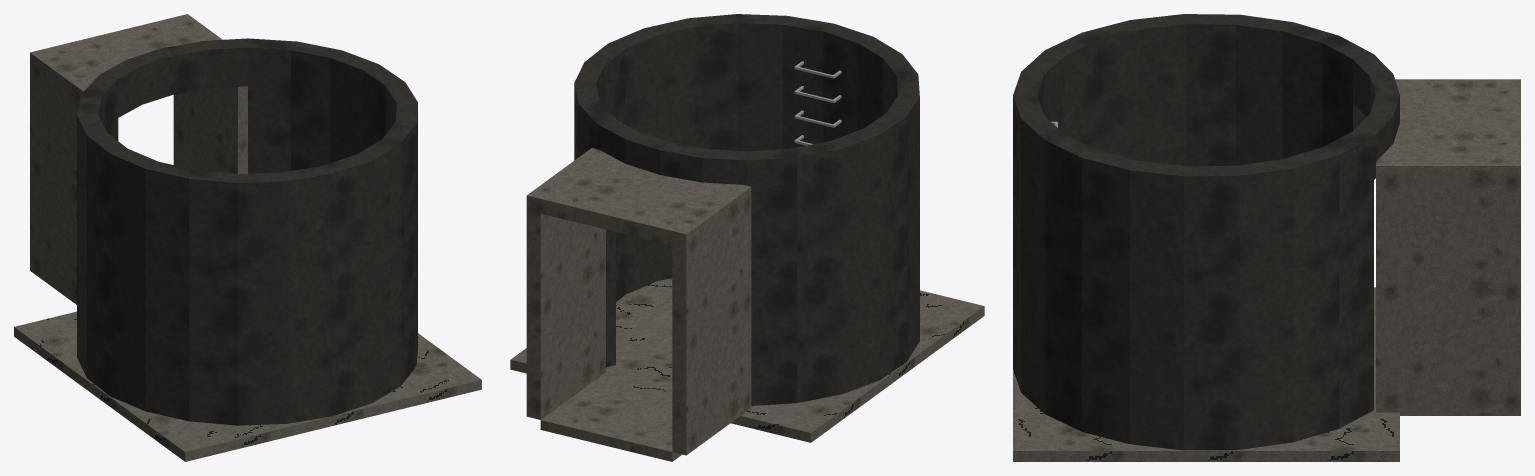
File: shaft_bottom_exit.glb
The picture shows the model from 3 angles, left to right: view 1: azimuth 30°, elevation 25°; view 2: azimuth 150°, elevation 25°; view 3: azimuth 270°, elevation 25°; orthographic projection. The views are drawn at different scales.
Parts seen in each view (by area): view 1: ShaftWall, Passage, Floor; view 2: ShaftWall, Passage, Floor, Rungs; view 3: ShaftWall, Passage, Floor.
Part boxes in pixels (x1=…): ShaftWall: x1=77, y1=38, x2=417, y2=425; Passage: x1=30, y1=14, x2=247, y2=304; Floor: x1=14, y1=311, x2=481, y2=461; ShaftWall: x1=574, y1=14, x2=919, y2=405; Passage: x1=526, y1=148, x2=751, y2=461; Floor: x1=510, y1=278, x2=984, y2=442; Rungs: x1=794, y1=61, x2=841, y2=145; ShaftWall: x1=1013, y1=14, x2=1399, y2=450; Passage: x1=1376, y1=79, x2=1520, y2=415; Floor: x1=1013, y1=287, x2=1399, y2=461.
Size of what is drawn, in the model's own units: 3.2 by 2.6 by 4.2.
Materials: 4 (3 with a texture image).
